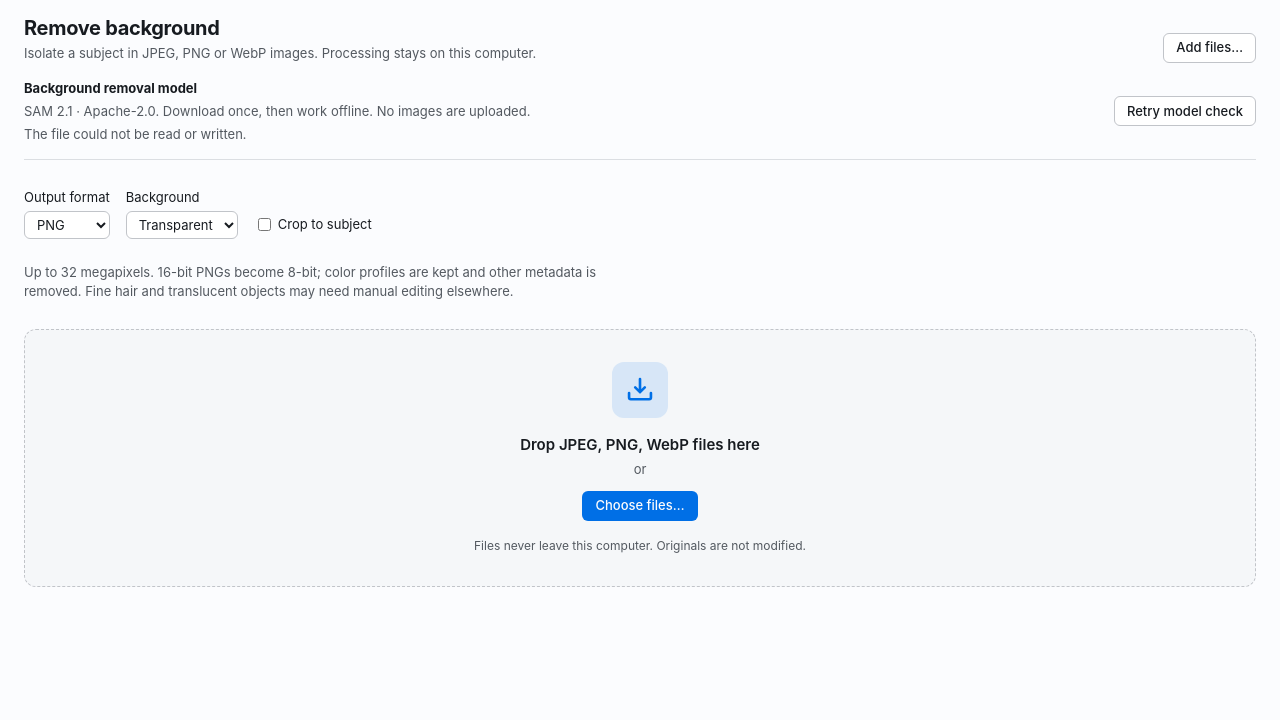
Scenario: retries a failed model check without being stuck checking
The width and height of the screenshot is (1280, 720).
Click the button "Retry model check": (1185, 111) left=1114, top=96, right=1256, bottom=126
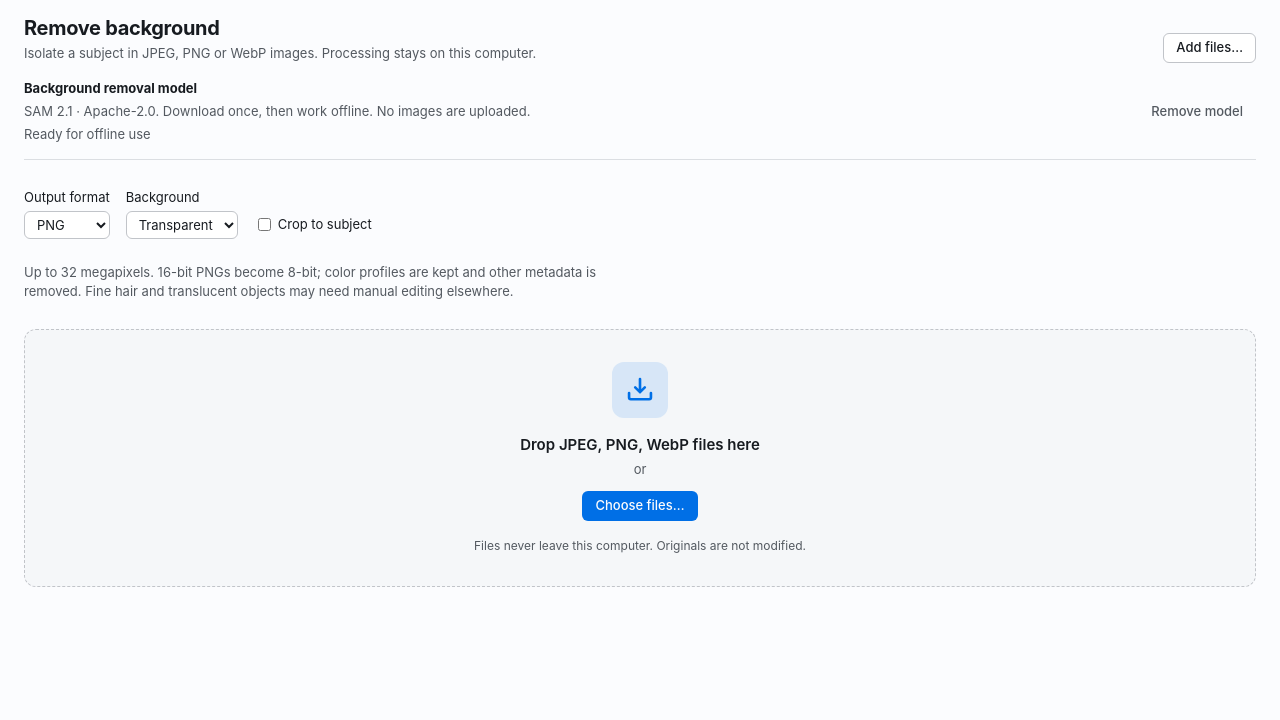
Expected: the text "Ready for offline use" is shown, left=24, top=126, right=151, bottom=142
